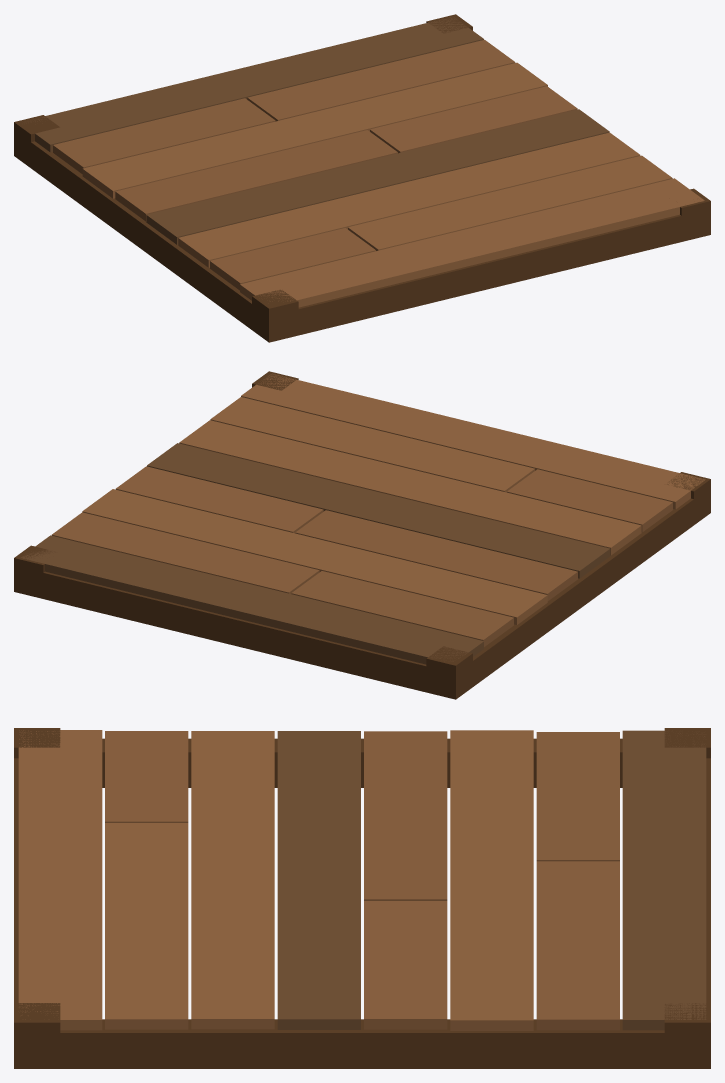
Rendered from foundation_wood_planks.gltf.
The picture shows the model from 3 angles, top to bottom: view 1: azimuth 30°, elevation 25°; view 2: azimuth 150°, elevation 25°; view 3: azimuth 270°, elevation 25°; orthographic projection. The views are drawn at different scales.
Visible parts, largest first — view 1: foundation_wood_planks; view 2: foundation_wood_planks; view 3: foundation_wood_planks.
Boxes of the visible parts, left/top/right/bottom form: foundation_wood_planks: left=14, top=14, right=710, bottom=342; foundation_wood_planks: left=14, top=371, right=710, bottom=699; foundation_wood_planks: left=14, top=728, right=710, bottom=1068.
Bounding box in the file's own units: 3 × 0.22 × 3.
